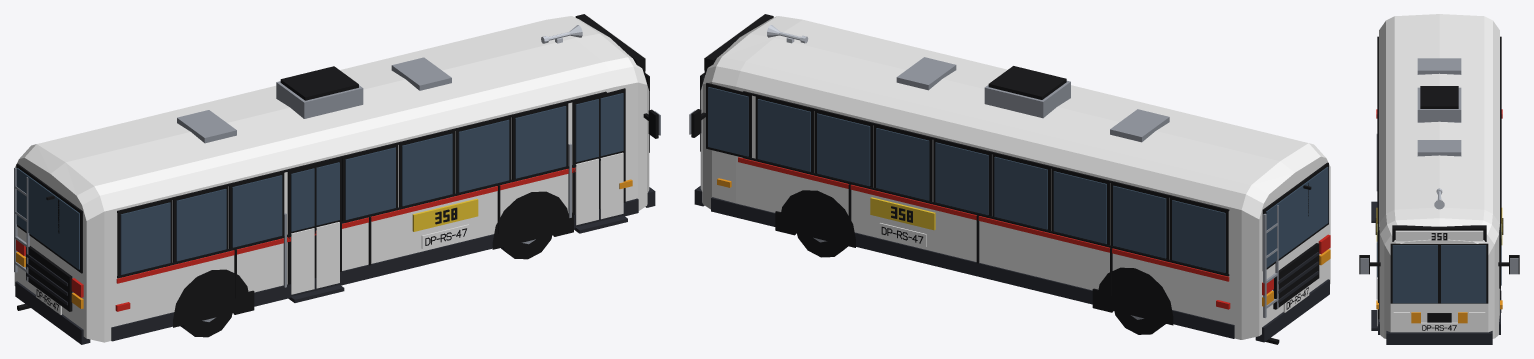
The model's file is micro_blanca.obj.
The picture shows the model from 3 angles, left to right: view 1: azimuth 30°, elevation 25°; view 2: azimuth 150°, elevation 25°; view 3: azimuth 270°, elevation 25°; orthographic projection. The views are drawn at different scales.
Visible parts, largest first — view 1: micro_blanca; view 2: micro_blanca; view 3: micro_blanca.
Part boxes in pixels (x1,y1,x2,y2): micro_blanca: (14, 14, 660, 344); micro_blanca: (689, 14, 1330, 344); micro_blanca: (1359, 14, 1519, 344).
Size of the model in its own units: 10.8 by 3.43 by 3.32.
